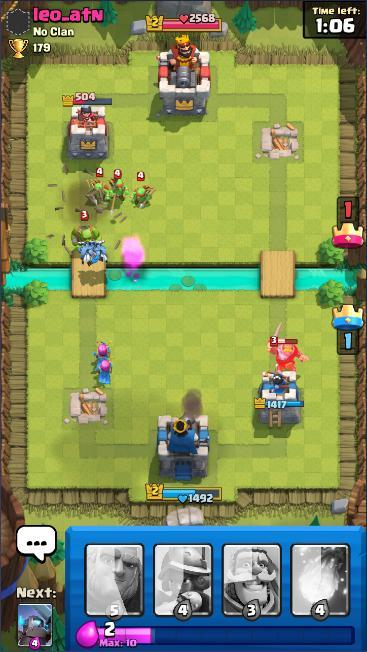ally_archer: (91, 338, 117, 373), (94, 352, 115, 388)
ally_minion: (81, 233, 101, 268), (91, 238, 114, 266), (73, 238, 94, 264)
enemy_brawler: (71, 208, 102, 258)
enemy_knight: (264, 317, 310, 375)
enemy_spear_goblin: (128, 169, 158, 212), (84, 165, 113, 207), (103, 166, 131, 204)
